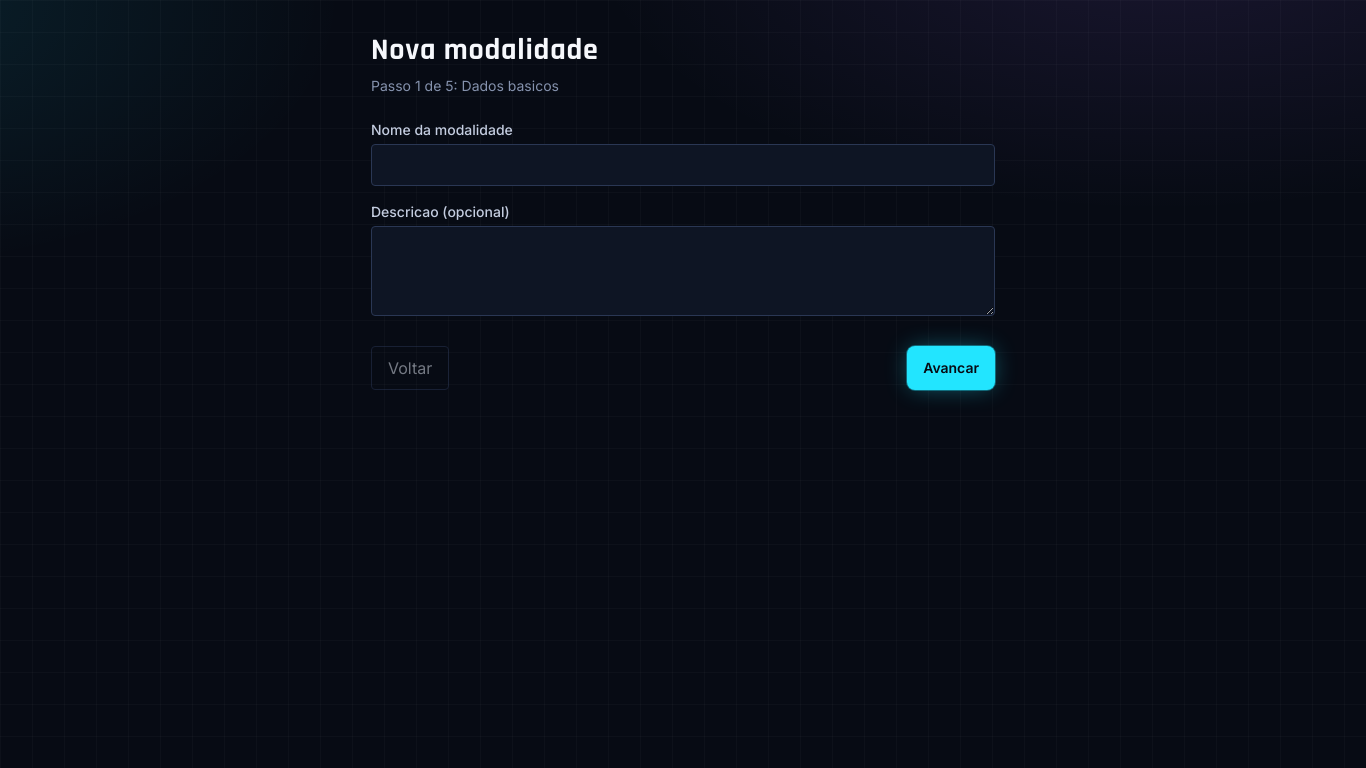
it: ModalidadeWizardPage - criacao › so mostra formato de chaveamento quando o tipo de disputa e confronto
This screenshot has width=1366, height=768.
Type "Sumo de Robos" into the field labelled "Nome da modalidade" at (683, 165), box [371,144,995,186]
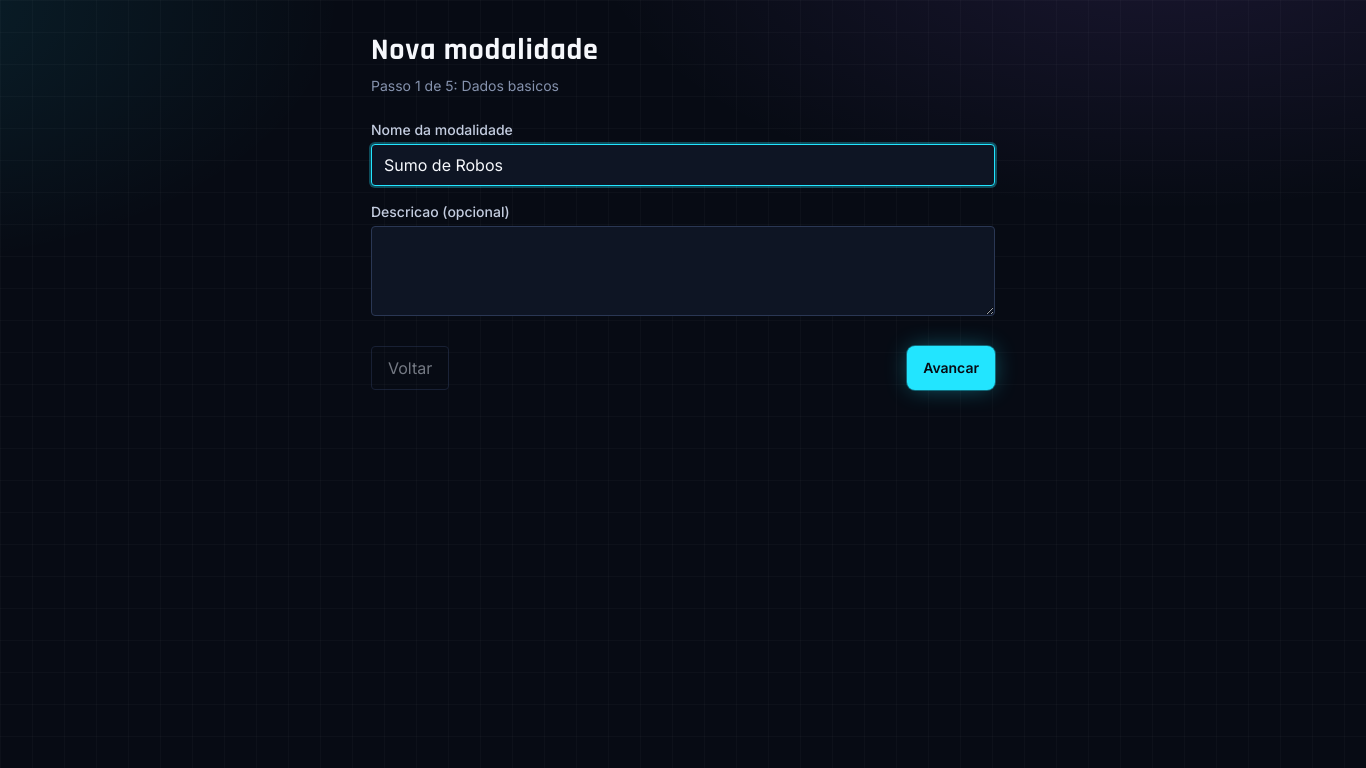
Click the button "Avancar" at (951, 368), box [907,346,995,390]
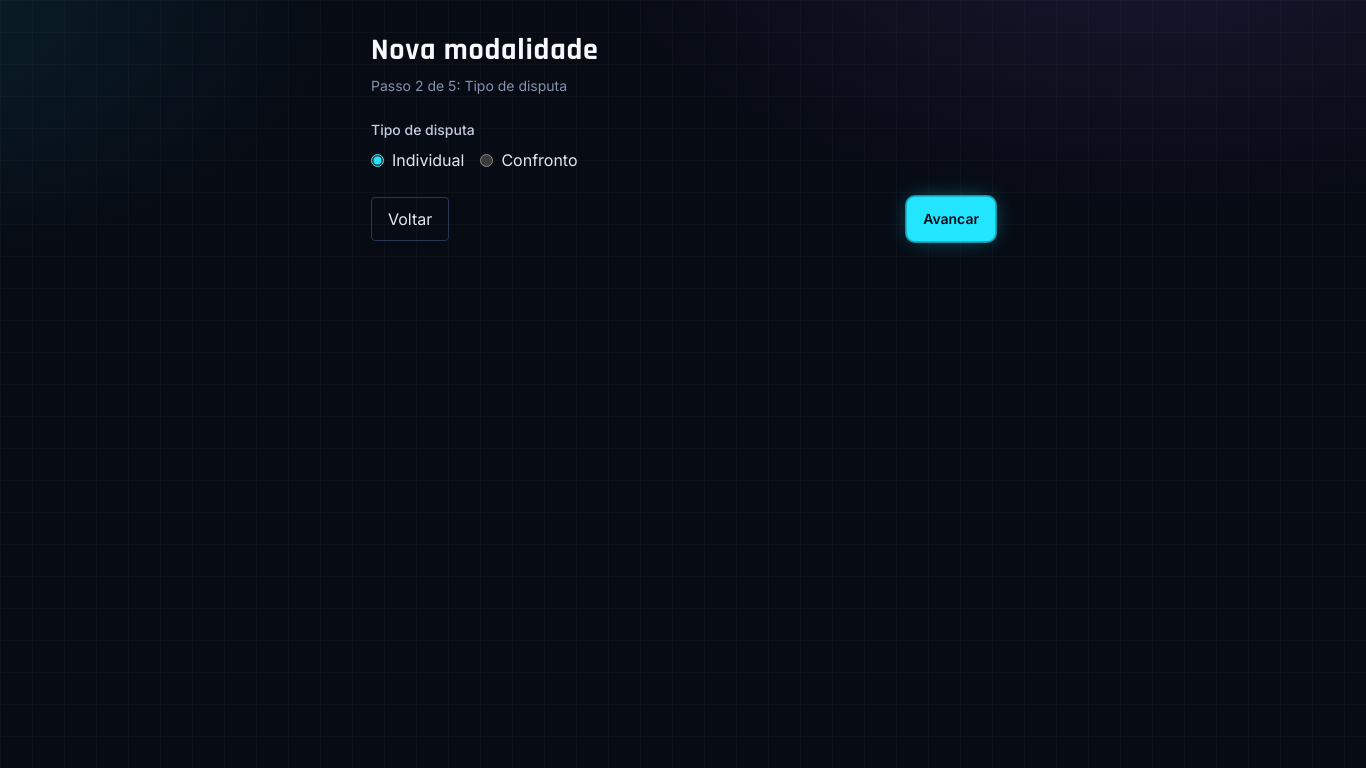
expect the field labelled "formato de chaveamento" is not shown: met
Click the radio button labelled "Confronto" at (487, 160), box [480,154,493,166]
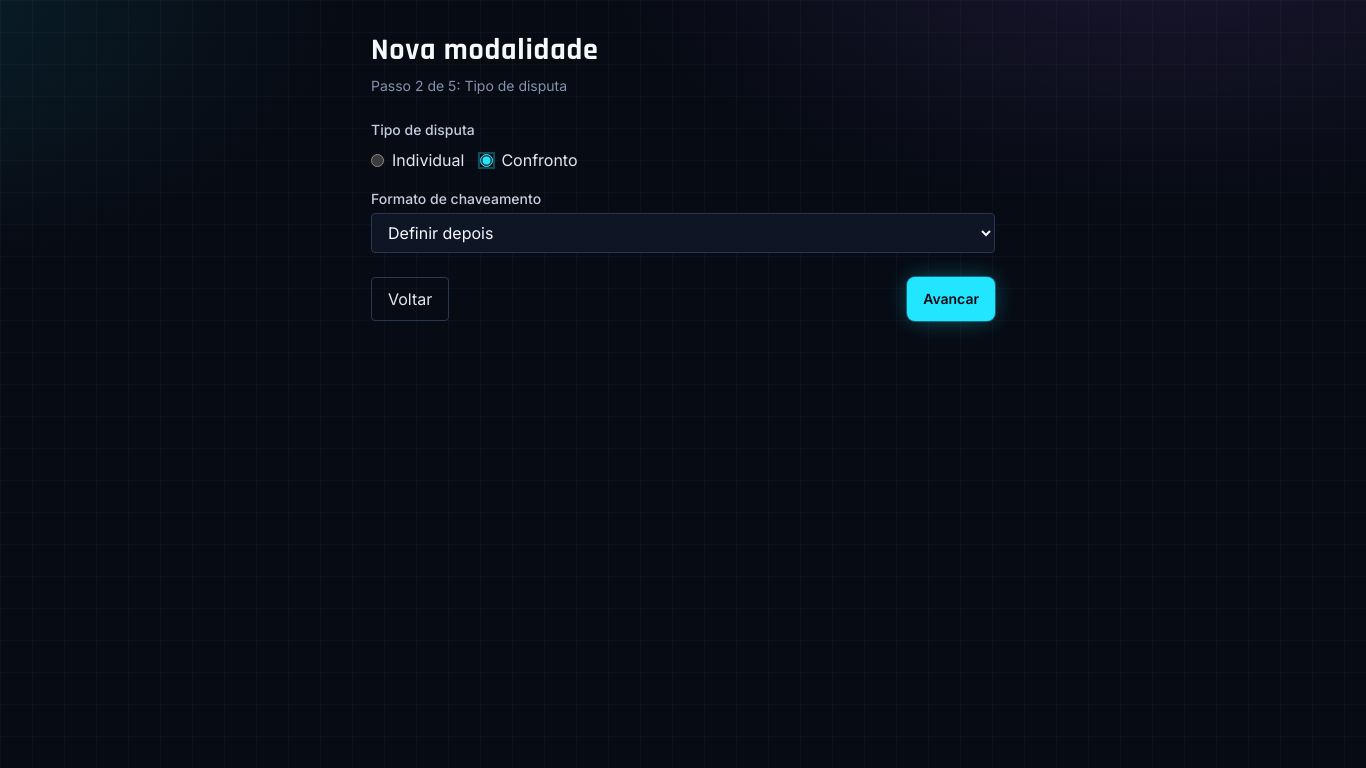
expect the dropdown labelled "Formato de chaveamento" is shown: met, box [371,212,995,252]
